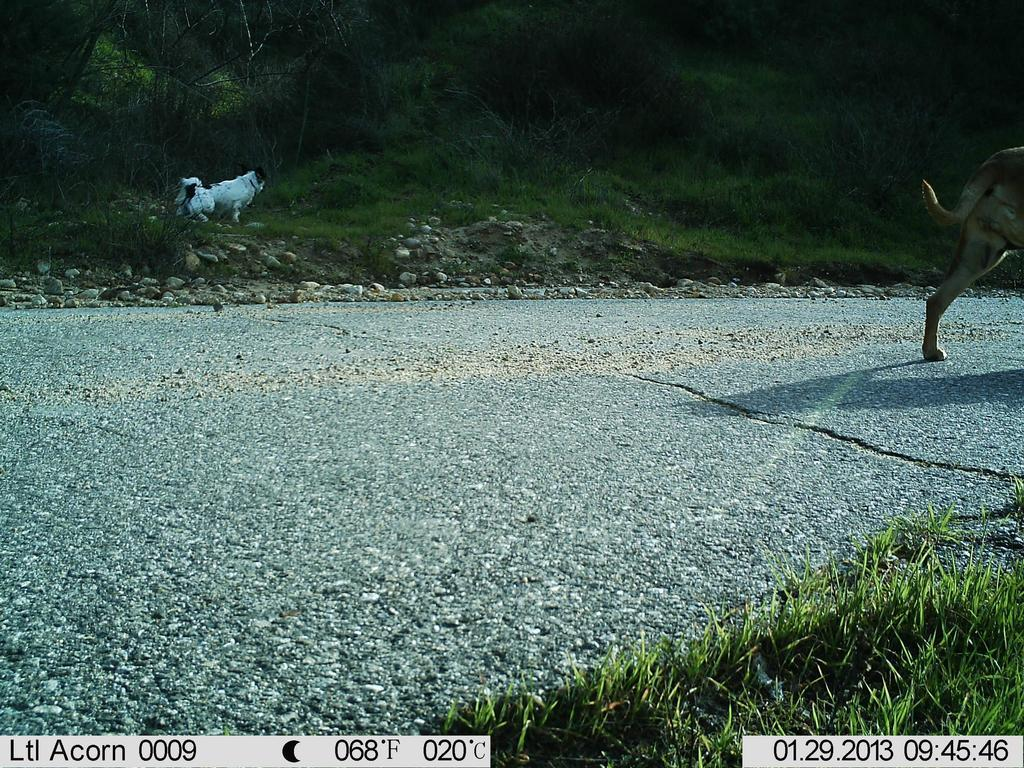dog: (917, 135, 1023, 364), (165, 162, 273, 228)
